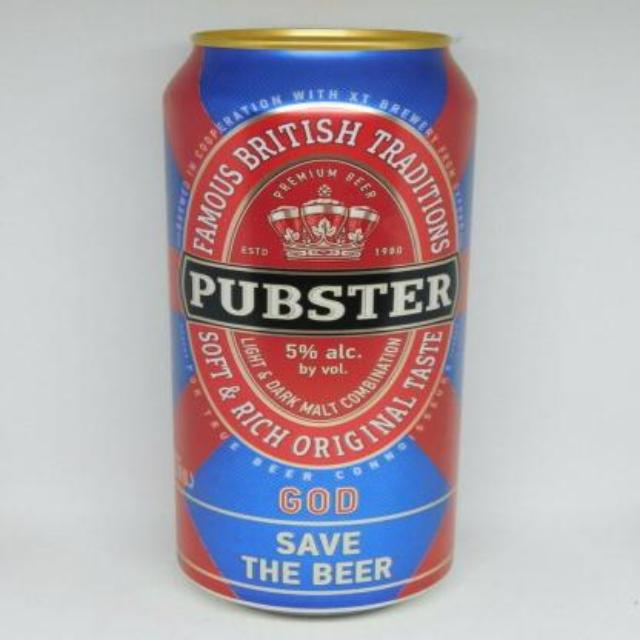metal: (163, 28, 472, 609)
